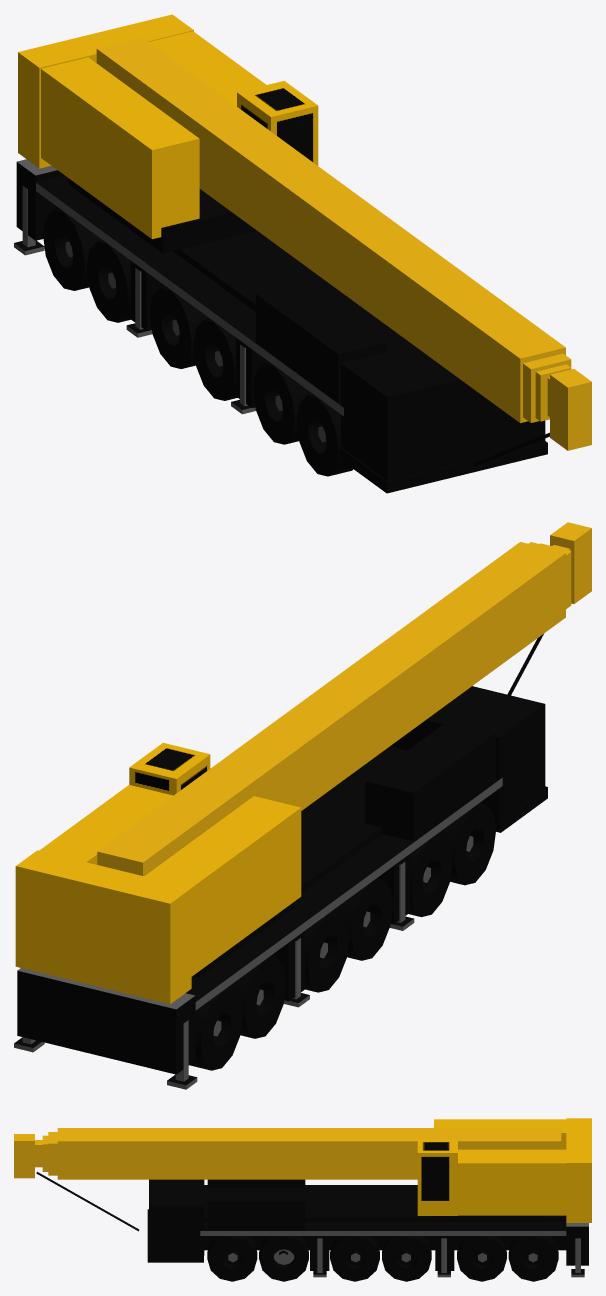
Rendered from Crane_vehicle.fbx.
3 views of the same model, one above another, from view 1: azimuth 30°, elevation 25°; view 2: azimuth 150°, elevation 25°; view 3: azimuth 270°, elevation 25° (orthographic). The views are drawn at different scales.
Visible parts, largest first — view 1: _DontMove__MainTruck__Object__FBX_TEX_, _DontMove__0___InObject_, _DontMove__Cabin___Object__FBX_TEX_, _MoveZ__75___Object_, _MoveX__NogiRight__Object__FBX_TEX_, _MoveZ__25___InObject_, _MoveZ__50___InObject_; view 2: _DontMove__MainTruck__Object__FBX_TEX_, _DontMove__Cabin___Object__FBX_TEX_, _DontMove__0___InObject_, _MoveZ__75___Object_, _MoveX__NogiRight__Object__FBX_TEX_; view 3: _DontMove__MainTruck__Object__FBX_TEX_, _DontMove__0___InObject_, _DontMove__Cabin___Object__FBX_TEX_, _MoveZ__75___Object_, _MoveX__NogiLeft__Object__FBX_TEX_, _MoveZ__25___InObject_, _Scale_Rotate_Move__Nitj__Object_, _MoveZ__50___InObject_.
Boxes of the visible parts, <box> form: _DontMove__MainTruck__Object__FBX_TEX_: <box>16,159,547,493</box>; _DontMove__0___InObject_: <box>96,37,565,423</box>; _DontMove__Cabin___Object__FBX_TEX_: <box>18,14,318,253</box>; _MoveZ__75___Object_: <box>547,369,591,450</box>; _MoveX__NogiRight__Object__FBX_TEX_: <box>14,185,255,414</box>; _MoveZ__25___InObject_: <box>523,353,571,422</box>; _MoveZ__50___InObject_: <box>535,364,571,421</box>; _DontMove__MainTruck__Object__FBX_TEX_: <box>17,686,547,1074</box>; _DontMove__Cabin___Object__FBX_TEX_: <box>15,742,301,1004</box>; _DontMove__0___InObject_: <box>97,542,565,876</box>; _MoveZ__75___Object_: <box>550,522,591,603</box>; _MoveX__NogiRight__Object__FBX_TEX_: <box>167,861,414,1089</box>; _DontMove__MainTruck__Object__FBX_TEX_: <box>147,1179,588,1281</box>; _DontMove__0___InObject_: <box>57,1128,561,1179</box>; _DontMove__Cabin___Object__FBX_TEX_: <box>417,1118,591,1222</box>; _MoveZ__75___Object_: <box>14,1134,42,1178</box>; _MoveX__NogiLeft__Object__FBX_TEX_: <box>313,1237,584,1277</box>; _MoveZ__25___InObject_: <box>48,1132,57,1175</box>; _Scale_Rotate_Move__Nitj__Object_: <box>36,1172,139,1231</box>; _MoveZ__50___InObject_: <box>42,1135,48,1171</box>.
Bounding box in the file's own units: 712 × 853 × 3477.
6 materials, 4 textured.
